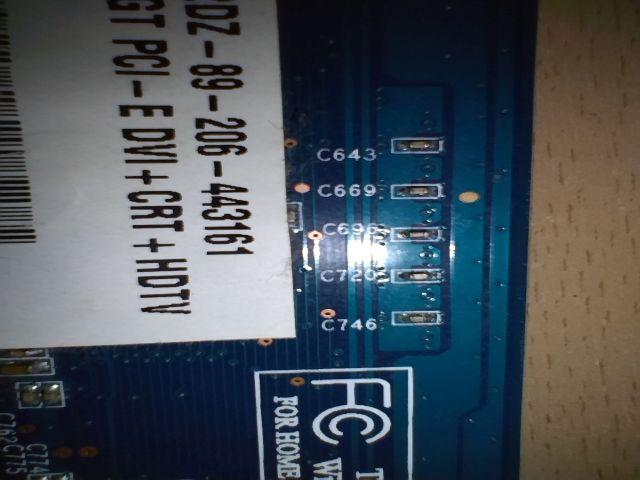capacitor: (389, 306, 449, 331), (386, 134, 447, 156), (388, 181, 449, 203), (389, 221, 446, 243), (389, 264, 450, 284), (14, 380, 42, 414), (41, 380, 68, 411)
